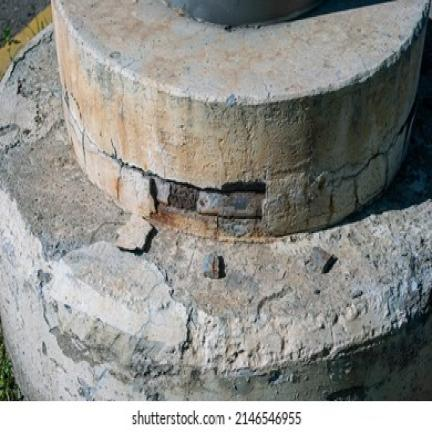besi_tidak_karat: (0, 182, 431, 402), (0, 2, 142, 296), (54, 2, 430, 99)
karat: (152, 201, 222, 242)
